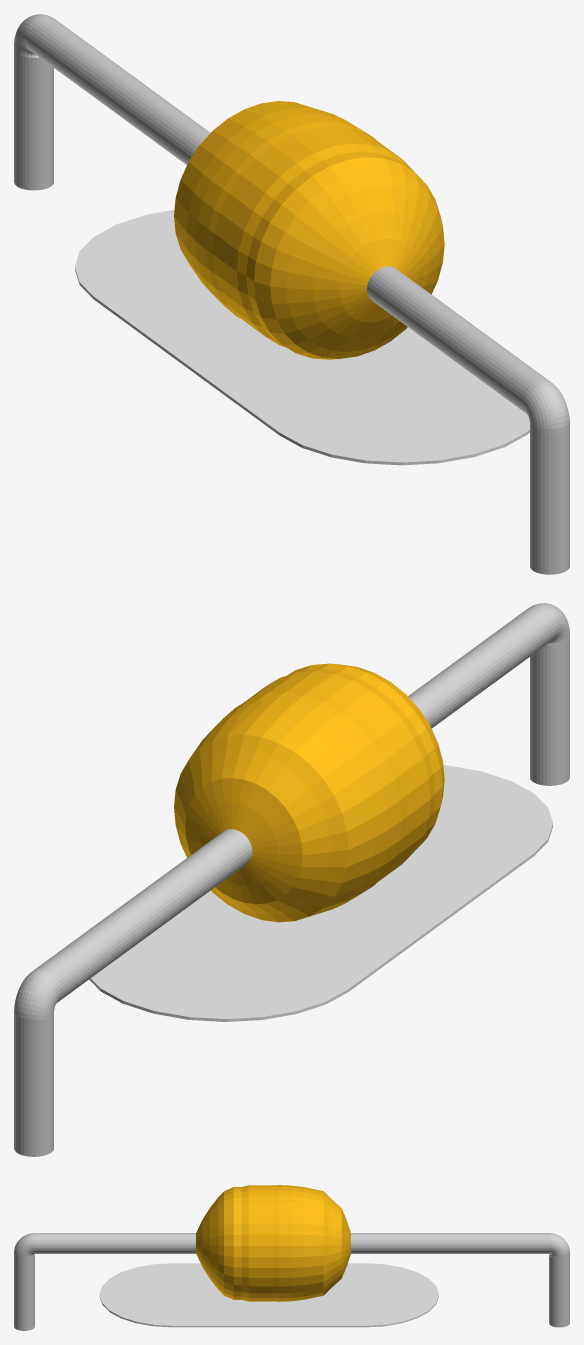
Rendered from yellow_cap_4.gltf.
3 views of the same model, one above another, from view 1: azimuth 30°, elevation 25°; view 2: azimuth 150°, elevation 25°; view 3: azimuth 270°, elevation 25° (orthographic). The views are drawn at different scales.
Visible parts, largest first — view 1: yellow_cap_4, yellow_cap_4_plane; view 2: yellow_cap_4, yellow_cap_4_plane; view 3: yellow_cap_4, yellow_cap_4_plane.
Part boxes in pixels (x1=…): yellow_cap_4: x1=14, y1=14, x2=569, y2=574; yellow_cap_4_plane: x1=75, y1=210, x2=529, y2=465; yellow_cap_4: x1=14, y1=603, x2=569, y2=1156; yellow_cap_4_plane: x1=89, y1=765, x2=552, y2=1021; yellow_cap_4: x1=14, y1=1185, x2=569, y2=1330; yellow_cap_4_plane: x1=99, y1=1263, x2=438, y2=1327.
Size of the model in its own units: 0.018 by 0.0183 by 0.0676.
